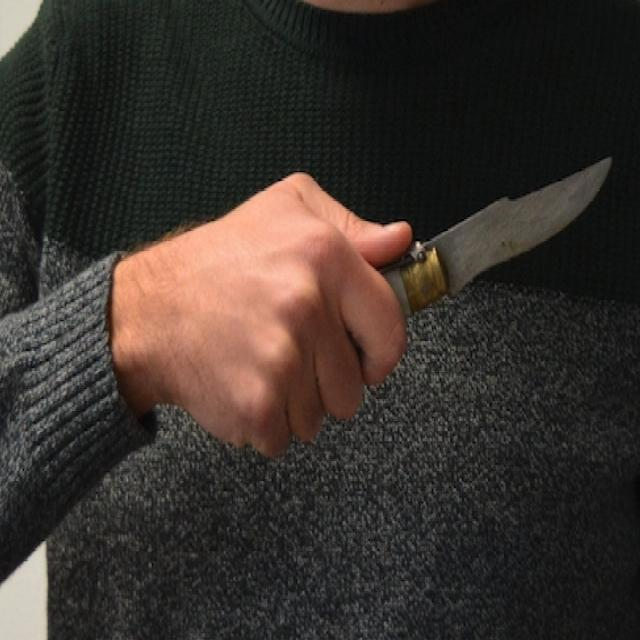suspicion: (1, 147, 620, 596), (410, 150, 615, 348)
